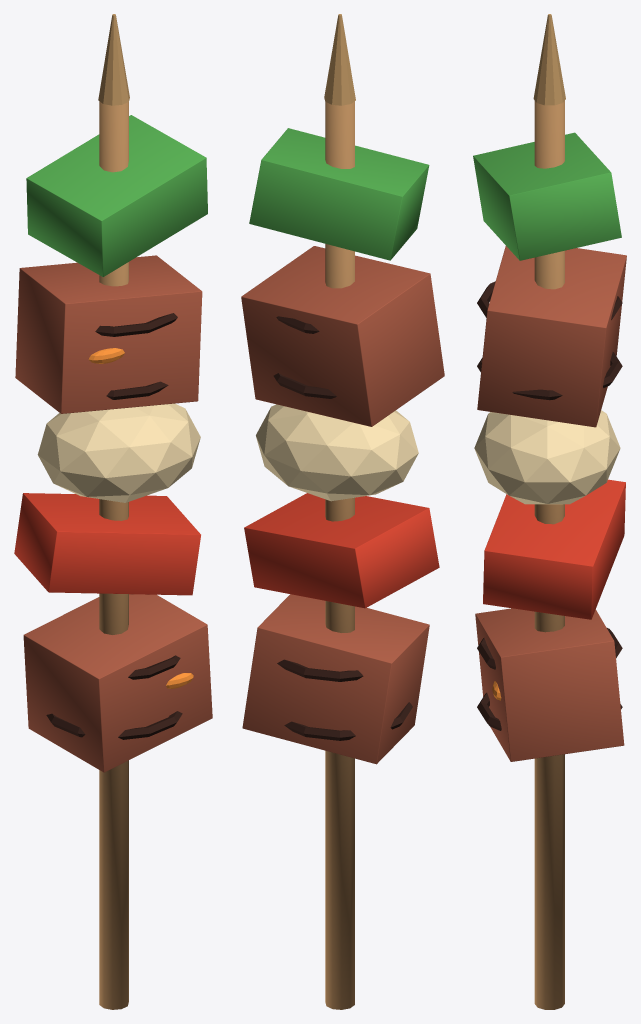
File: grove_festival_skewer.glb
3 renders of one model, left to right at view 1: azimuth 30°, elevation 25°; view 2: azimuth 150°, elevation 25°; view 3: azimuth 270°, elevation 25°, orthographic.
Parts seen in each view (by area): view 1: Grilled_Meat_Upper, Grilled_Meat_Lower, Festival_Pepper_Green, Festival_Pepper_Red, Roasted_Onion, Skewer_Stick, Skewer_Point, Char_Ring_1, Char_Ring_4, Char_Ring_3, Char_Ring_2; view 2: Grilled_Meat_Upper, Grilled_Meat_Lower, Festival_Pepper_Red, Festival_Pepper_Green, Skewer_Stick, Roasted_Onion, Skewer_Point, Char_Ring_1, Char_Ring_2, Char_Ring_3; view 3: Grilled_Meat_Upper, Grilled_Meat_Lower, Festival_Pepper_Red, Festival_Pepper_Green, Skewer_Stick, Roasted_Onion, Skewer_Point, Char_Ring_3, Char_Ring_2, Char_Ring_1, Char_Ring_4.
Boxes of the visible parts, <box> form: Grilled_Meat_Upper: <box>15,255,202,413</box>; Grilled_Meat_Lower: <box>23,594,212,772</box>; Festival_Pepper_Green: <box>26,115,207,276</box>; Festival_Pepper_Red: <box>14,493,200,595</box>; Roasted_Onion: <box>37,403,200,502</box>; Skewer_Stick: <box>99,101,128,1009</box>; Skewer_Point: <box>98,14,129,105</box>; Char_Ring_1: <box>46,711,182,739</box>; Char_Ring_4: <box>95,313,177,336</box>; Char_Ring_3: <box>106,381,168,399</box>; Char_Ring_2: <box>128,655,180,679</box>; Grilled_Meat_Upper: <box>241,246,444,426</box>; Grilled_Meat_Lower: <box>242,594,429,764</box>; Festival_Pepper_Red: <box>244,493,439,608</box>; Festival_Pepper_Green: <box>249,128,429,260</box>; Skewer_Stick: <box>325,101,354,1009</box>; Roasted_Onion: <box>256,404,418,501</box>; Skewer_Point: <box>324,14,355,105</box>; Char_Ring_1: <box>284,702,412,740</box>; Char_Ring_2: <box>277,659,363,681</box>; Char_Ring_3: <box>273,373,336,398</box>; Grilled_Meat_Upper: <box>477,246,626,427</box>; Grilled_Meat_Lower: <box>475,608,624,761</box>; Festival_Pepper_Red: <box>483,479,625,619</box>; Festival_Pepper_Green: <box>473,132,621,260</box>; Skewer_Stick: <box>534,101,564,1009</box>; Roasted_Onion: <box>474,410,620,504</box>; Skewer_Point: <box>533,14,565,105</box>; Char_Ring_3: <box>477,352,622,400</box>; Char_Ring_2: <box>477,628,622,669</box>; Char_Ring_1: <box>477,692,622,730</box>; Char_Ring_4: <box>477,281,622,319</box>.
Bounding box in the file's own units: 0.0805 × 0.47 × 0.0663.
